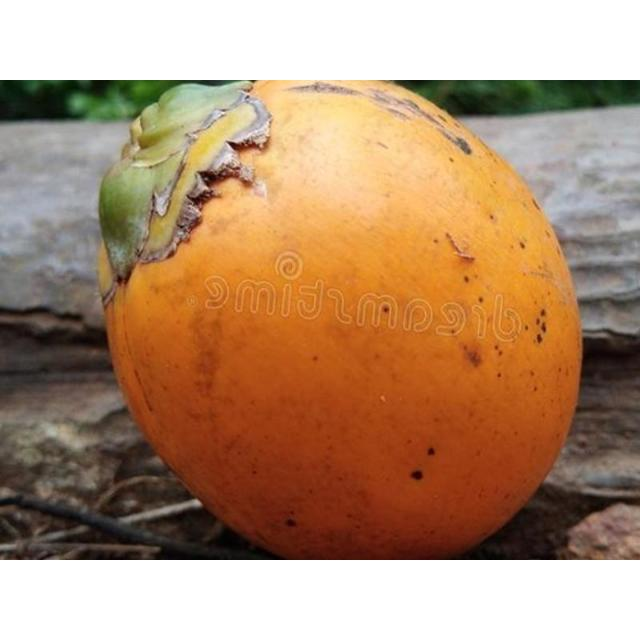good: (96, 80, 582, 559)
